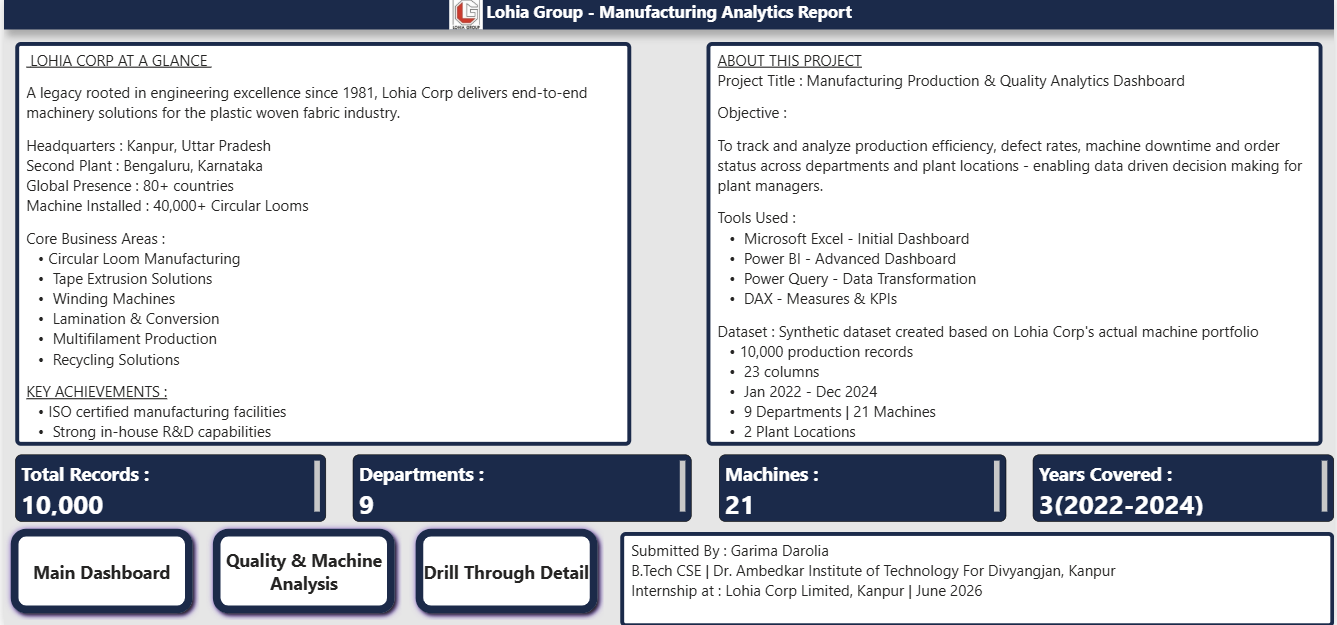

Layout of this report page (visuals, bound fields, positions):
{"tool":"powerbi","page":{"name":"Overview","canvas":[1900,900],"ordinal":0},"visuals":[{"type":"textbox","box":[0,0,1900,46],"z":0},{"type":"image","box":[624,0,74,46],"z":1000},{"type":"textbox","box":[16,64,880,577],"z":2000},{"type":"textbox","box":[1004,64,880,577],"z":3000},{"type":"textbox","box":[16,654,444,96],"z":4000},{"type":"textbox","box":[498,654,484,96],"z":5000},{"type":"textbox","box":[1022,654,410,96],"z":6000},{"type":"textbox","box":[1470,654,430,96],"z":7000},{"type":"textbox","box":[880,764,1020,136],"z":8000},{"type":"pageNavigator","box":[0,750,858,140],"z":9000}]}

Visuals, with their boxes in screenshot pixels (x1, y1, x2, y2), scaled from the page's 1900x900 canvas onto the 1337x625 screenshot:
textbox: bbox=[0, 0, 1336, 32]
image: bbox=[439, 0, 491, 32]
textbox: bbox=[11, 44, 631, 445]
textbox: bbox=[706, 44, 1326, 445]
textbox: bbox=[11, 454, 324, 521]
textbox: bbox=[350, 454, 691, 521]
textbox: bbox=[719, 454, 1008, 521]
textbox: bbox=[1034, 454, 1336, 521]
textbox: bbox=[619, 531, 1336, 624]
pageNavigator: bbox=[0, 521, 604, 618]
